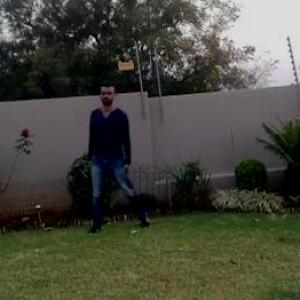follow: (94, 80, 146, 242)
